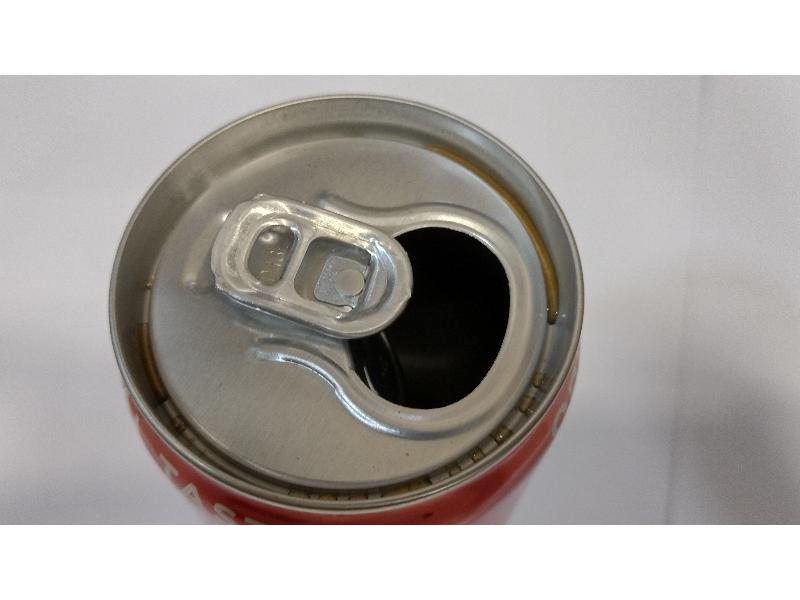can: (101, 93, 589, 528)
